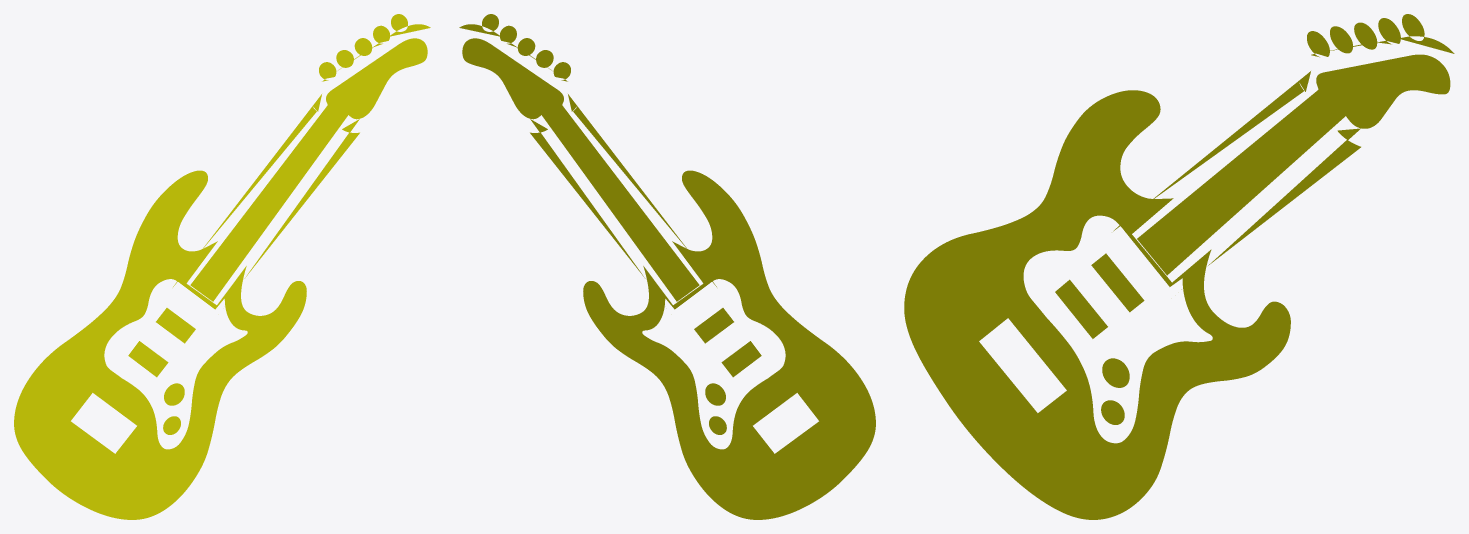
Rendered from guitar_model.glb.
3 renders of one model, left to right at view 1: azimuth 30°, elevation 25°; view 2: azimuth 150°, elevation 25°; view 3: azimuth 330°, elevation 25°, orthographic. The views are drawn at different scales.
Parts seen in each view (by area): view 1: Text.924_924; view 2: Text.924_924; view 3: Text.924_924.
Part boxes in pixels (x1,y1,x2,y2): Text.924_924: [14, 14, 430, 519]; Text.924_924: [459, 14, 875, 519]; Text.924_924: [904, 14, 1454, 519].
Bounding box in the file's own units: 1 × 1.02 × 3.6e-06.
